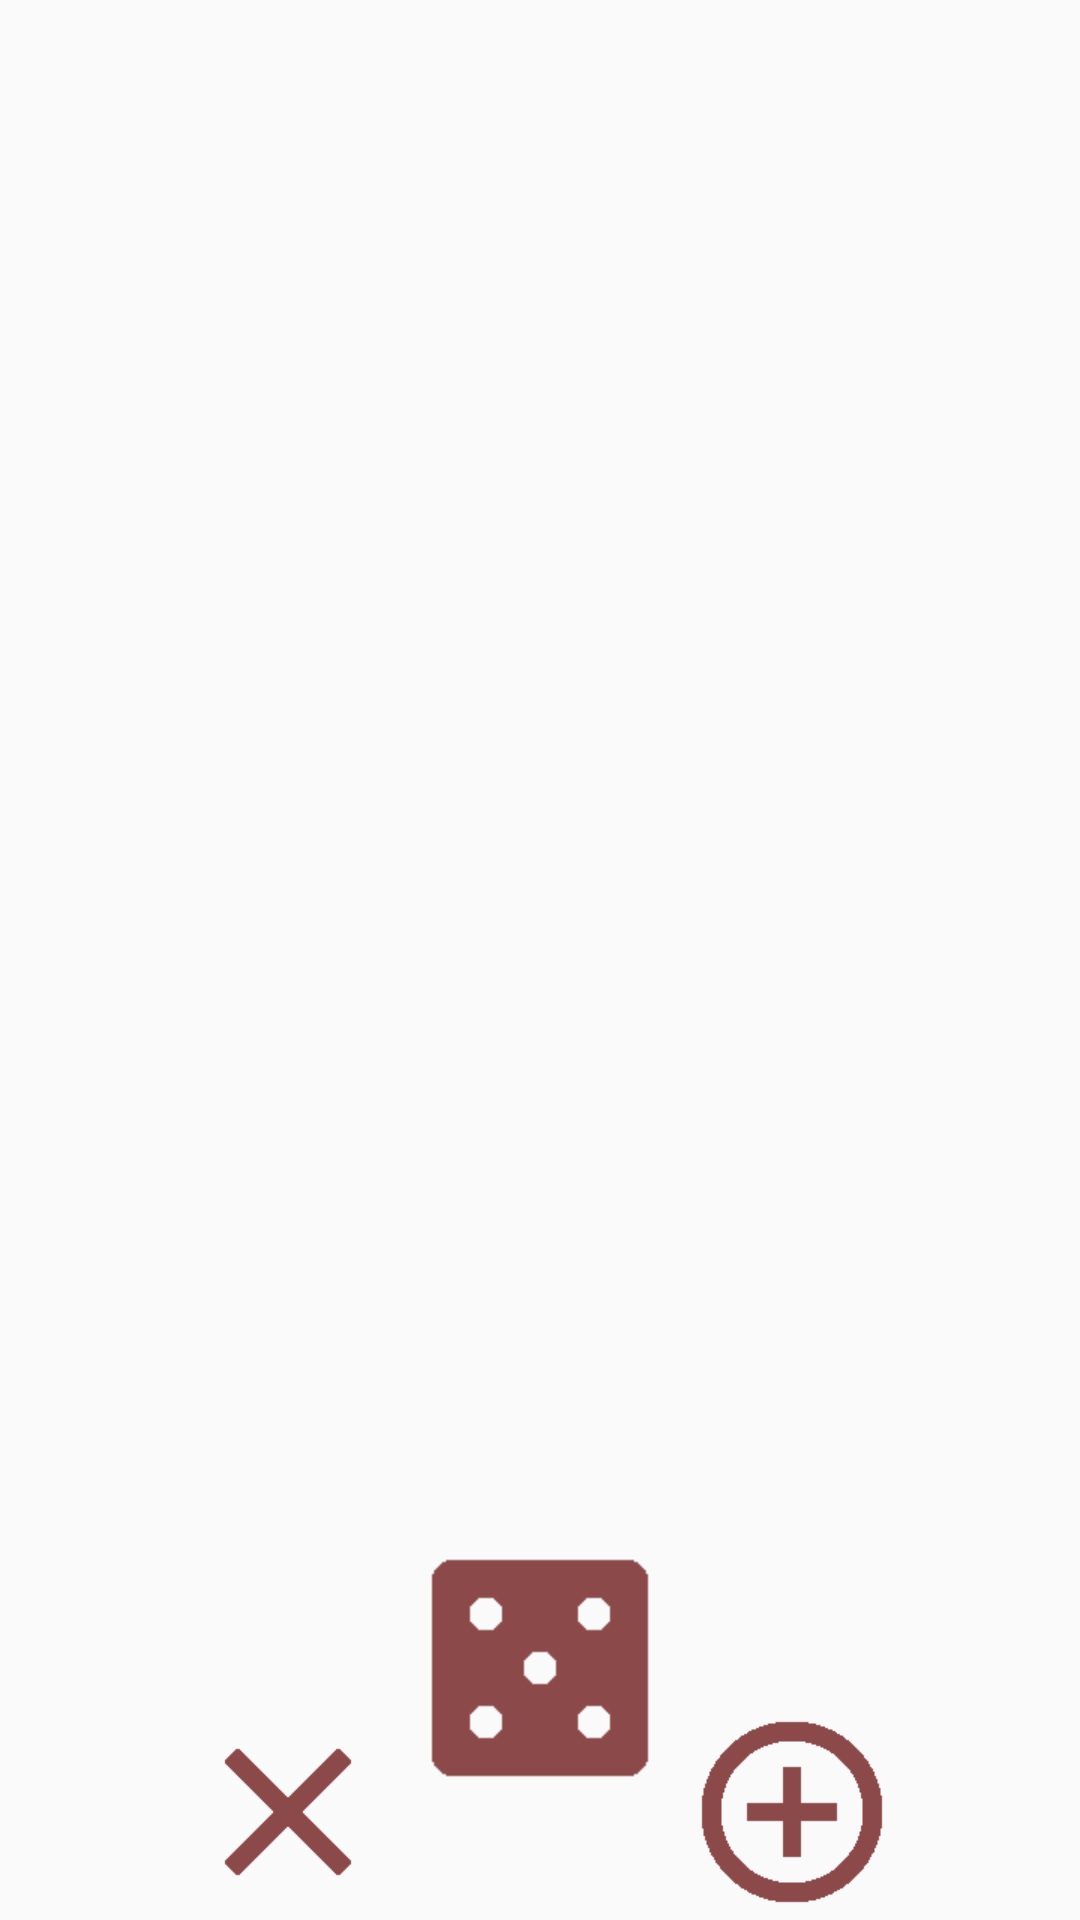

Named icons in this screenshot (1080x1920) and their bounding boxes, Rect(x1, y1, x2, y2):
add item: Rect(701, 1721, 883, 1903)
clear: Rect(224, 1748, 352, 1876)
draw: Rect(431, 1559, 649, 1777)
